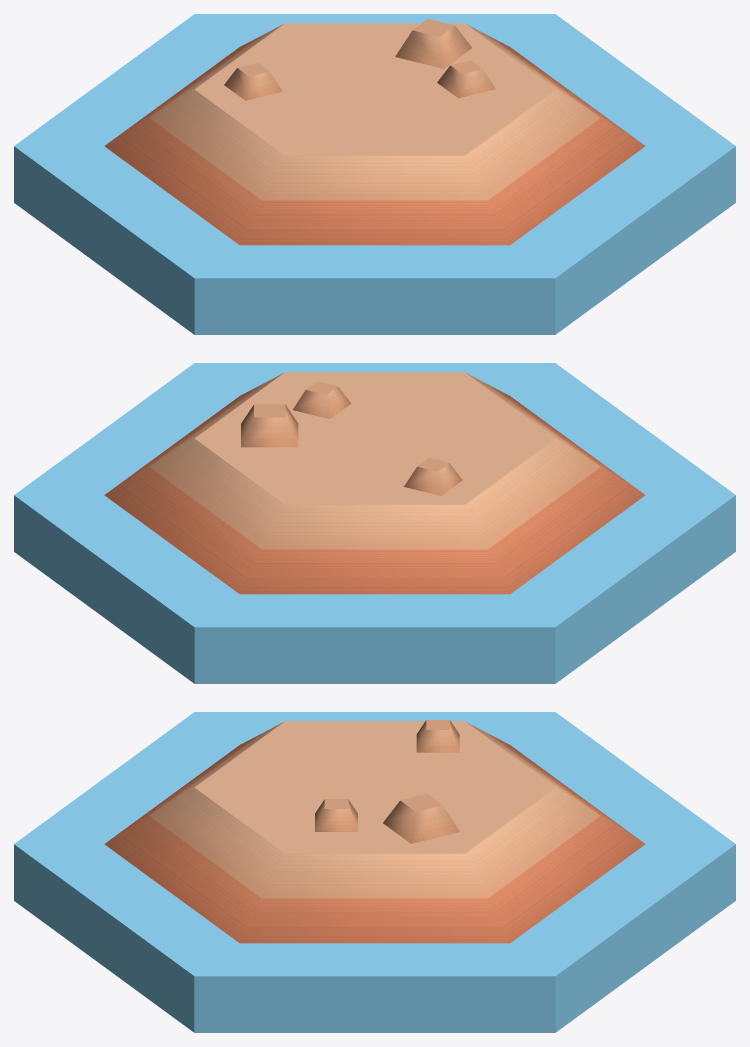
Rendered from water-island.glb.
The picture shows the model from 3 angles, top to bottom: view 1: azimuth 30°, elevation 25°; view 2: azimuth 150°, elevation 25°; view 3: azimuth 270°, elevation 25°; orthographic projection.
Parts seen in each view (by area): view 1: water-island; view 2: water-island; view 3: water-island.
Boxes of the visible parts, box(x1,y1,x2,y2) form: water-island: box(14, 14, 735, 334); water-island: box(14, 363, 735, 683); water-island: box(14, 712, 735, 1032).
Bounding box in the file's own units: 1 × 0.2434 × 1.15.
1 material, 1 textured.
